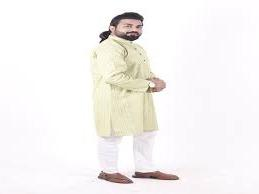Human: (90, 13, 181, 185)
